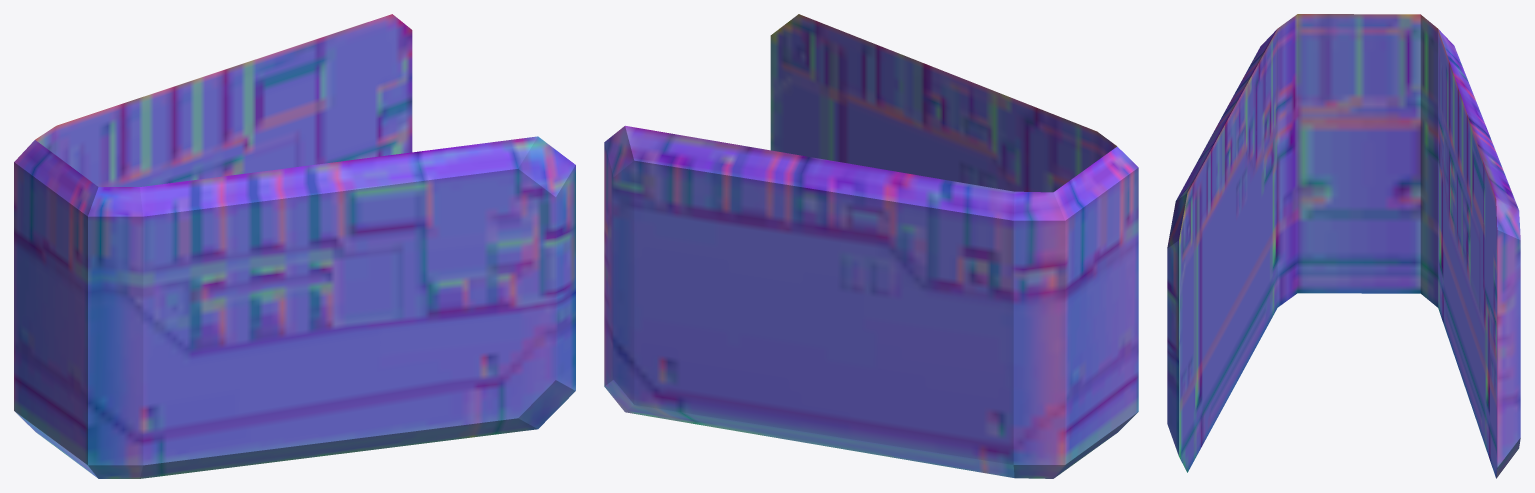
File: ship_debris_05_part_10.glb
The picture shows the model from 3 angles, left to right: view 1: azimuth 30°, elevation 25°; view 2: azimuth 150°, elevation 25°; view 3: azimuth 270°, elevation 25°; orthographic projection. The views are drawn at different scales.
Visible parts, largest first — view 1: ship_debris_05_part_10; view 2: ship_debris_05_part_10; view 3: ship_debris_05_part_10.
Boxes of the visible parts, <box> form: ship_debris_05_part_10: <box>14,14,575,478</box>; ship_debris_05_part_10: <box>604,14,1138,478</box>; ship_debris_05_part_10: <box>1167,14,1520,478</box>.
Bounding box in the file's own units: 1.59 × 1.03 × 1.17.
1 material, 1 textured.
